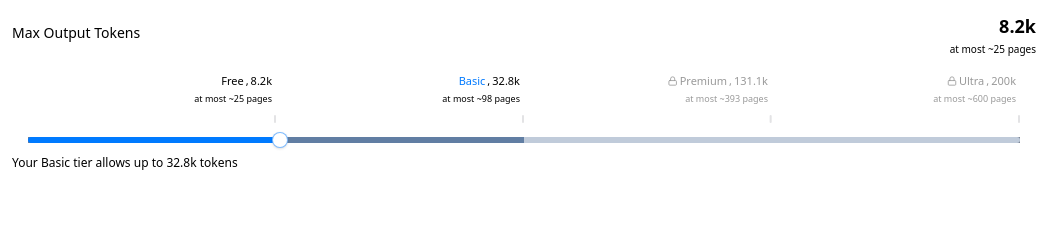
Test case: OutputCapSlider › tier markers display approximate page counts and current value updates page equivalent on slider move
This screenshot has width=1048, height=242.
Expected: the 1st text "at most ~25 pages" is shown, [950,42,1036,57]
What coordinates should you click on to do the following:
click the button "basic , 32.8k at most ~98 pages"
I would click on:
 (476, 90)
Its box is [428,69,524,111].
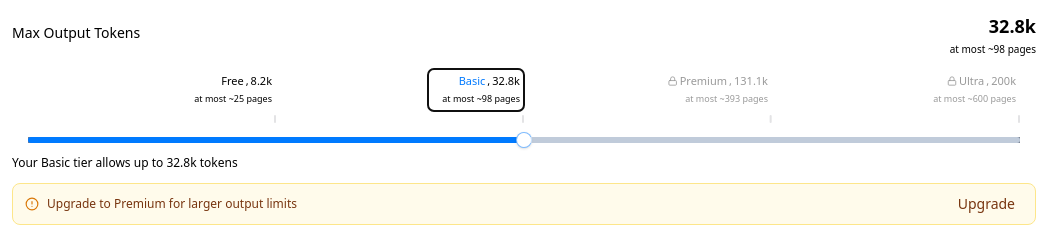
Expected: the 1st text "at most ~98 pages" is shown, [950,42,1036,57]
